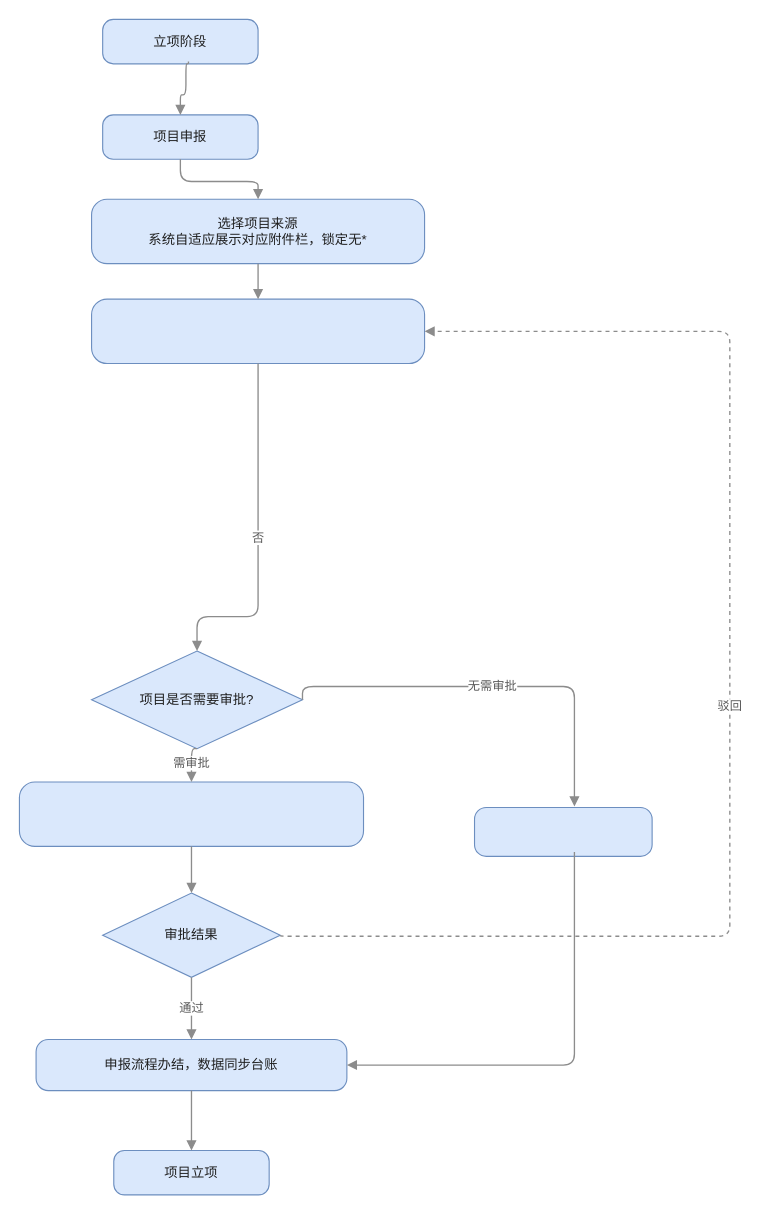
This 761x1214 diagram has some shape labels left out. The centre of each missing label's shape, as x and y in pixels:
"按项目渠道走差异化线上审签流程 国家级/地方级/公司级多级审批" belongs at point (191, 813).
"直接线上报备" belongs at point (562, 831).
"项目团队人员上传审批全套信息材料 建议书/申请书/任务清单/评审意见等" belongs at point (257, 331).
